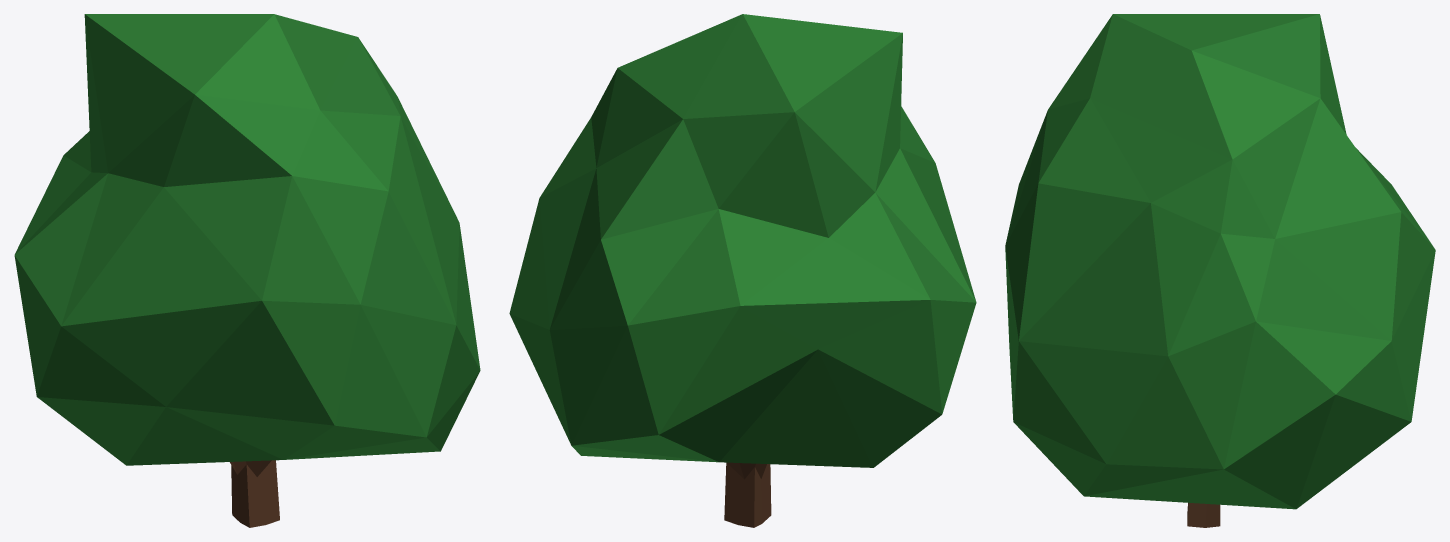
The model's file is Tree_10_Green.fbx.
The picture shows the model from 3 angles, left to right: view 1: azimuth 30°, elevation 25°; view 2: azimuth 150°, elevation 25°; view 3: azimuth 270°, elevation 25°; orthographic projection. The views are drawn at different scales.
Visible parts, largest first — view 1: Tree_10_Green; view 2: Tree_10_Green; view 3: Tree_10_Green.
Boxes of the visible parts, x1,y1,x2,y2 form: Tree_10_Green: [14, 14, 480, 527]; Tree_10_Green: [509, 14, 976, 527]; Tree_10_Green: [1005, 14, 1435, 527].
Bounding box in the file's own units: 682 × 802 × 656.
